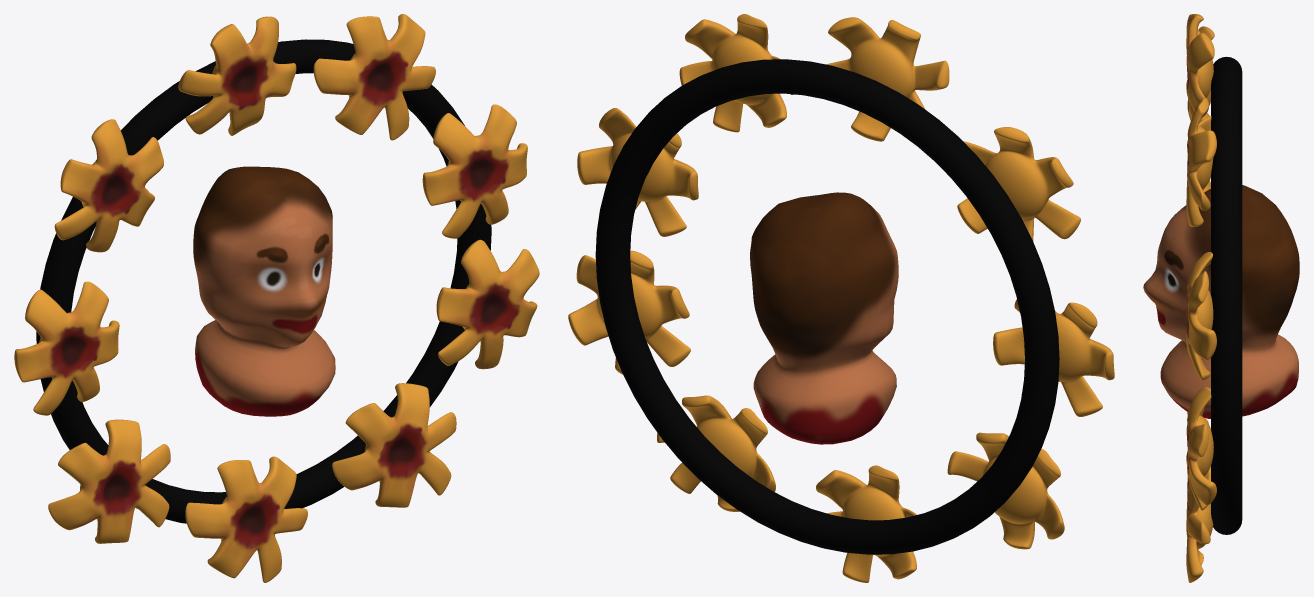
Rendered from marcy-playground.obj.
3 views of the same model, side by side, from view 1: azimuth 30°, elevation 25°; view 2: azimuth 150°, elevation 25°; view 3: azimuth 270°, elevation 25° (orthographic). The views are drawn at different scales.
Visible parts, largest first — view 1: flower, head, ring; view 2: flower, ring, head; view 3: head, ring, flower.
Part boxes in pixels (x1,y1,x2,y2): flower: (14,14,539,582); head: (193,166,335,416); ring: (36,39,491,523); flower: (568,14,1114,582); ring: (595,59,1059,554); head: (750,192,898,444); head: (1143,185,1299,418); ring: (1211,56,1242,534); flower: (1186,14,1216,582).
Bounding box in the file's own units: 3.03 × 3.08 × 0.8451.
3 materials, 2 textured.
